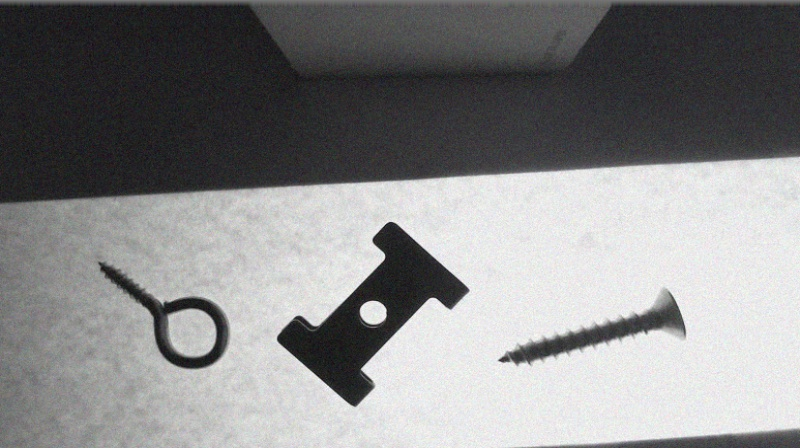O001: (96, 260, 232, 371)
O002: (274, 216, 466, 407)
S001: (496, 284, 688, 369)
